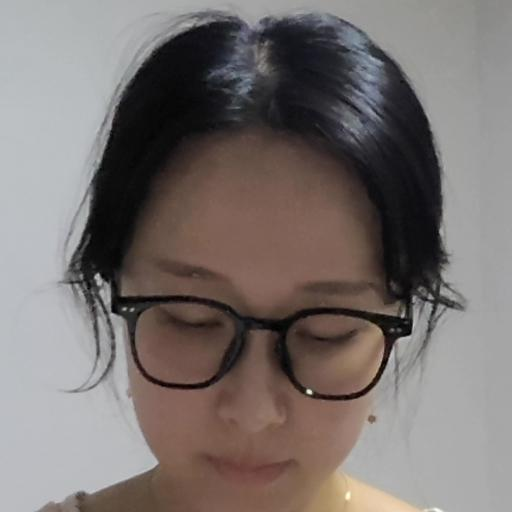no_glasses: (82, 23, 438, 512)
